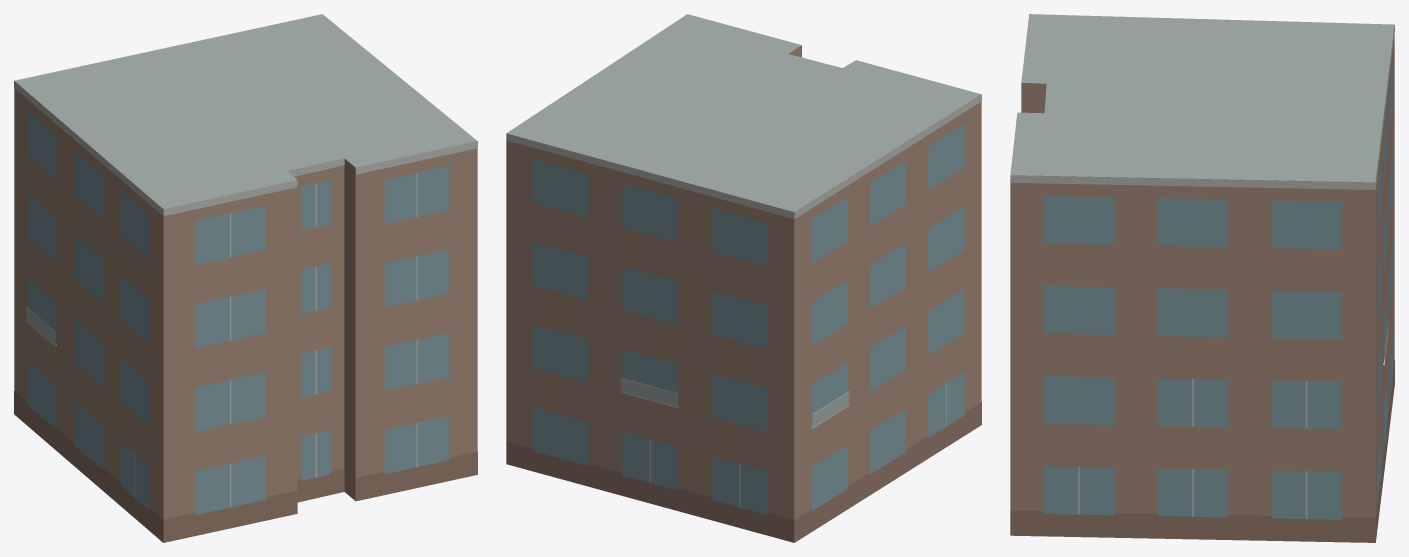
The model's file is survey-upis-32920500.glb.
The picture shows the model from 3 angles, left to right: view 1: azimuth 30°, elevation 25°; view 2: azimuth 150°, elevation 25°; view 3: azimuth 270°, elevation 25°; orthographic projection. The views are drawn at different scales.
Parts seen in each view (by area): view 1: survey-upis-32920500.tmp; view 2: survey-upis-32920500.tmp; view 3: survey-upis-32920500.tmp.
Part boxes in pixels (left/top/right/bottom): survey-upis-32920500.tmp: left=14, top=14, right=477, bottom=542; survey-upis-32920500.tmp: left=506, top=14, right=981, bottom=542; survey-upis-32920500.tmp: left=1010, top=14, right=1394, bottom=542.
Size of the model in its own units: 11.53 by 11.5 by 11.12.
